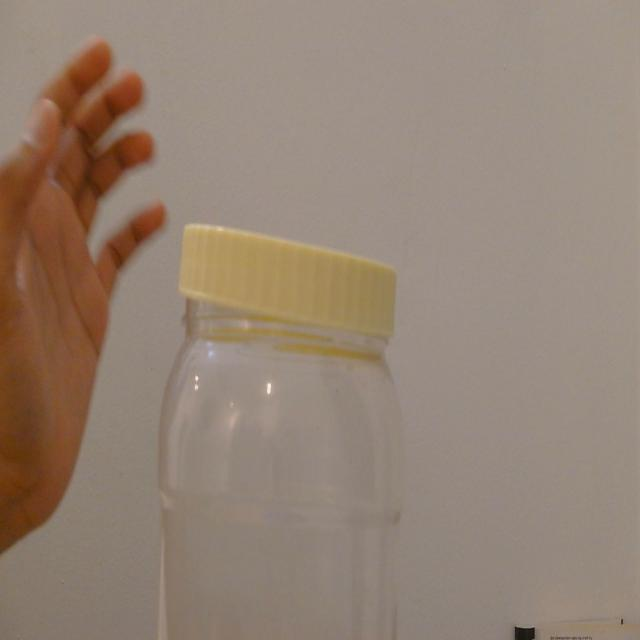cap: (174, 207, 416, 361)
